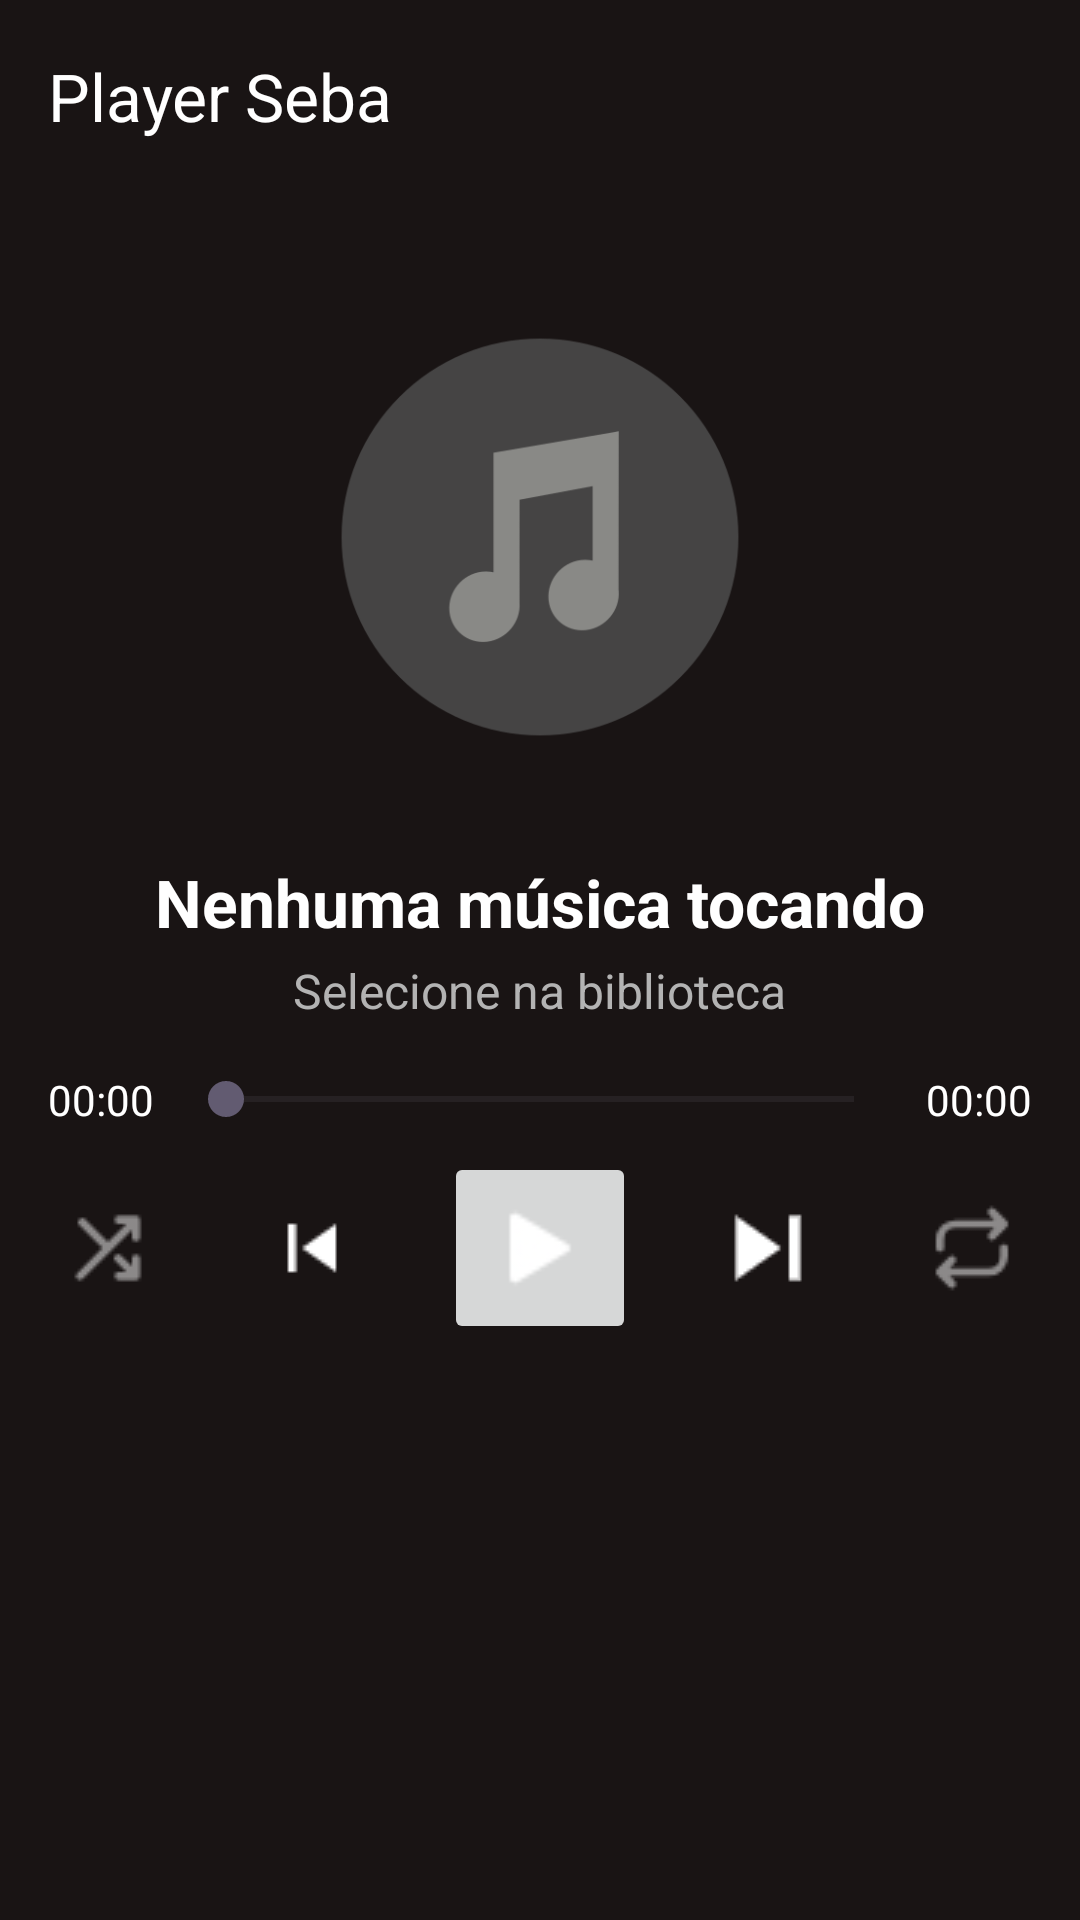

Screen size 1080x1920. Icon name, then its center in pixels as point (x, y):
Anterior: point (312, 1248)
Embaralhar: point (108, 1248)
Próxima: point (768, 1248)
Repetir: point (972, 1248)
Tocar/Pausar: point (540, 1248)
